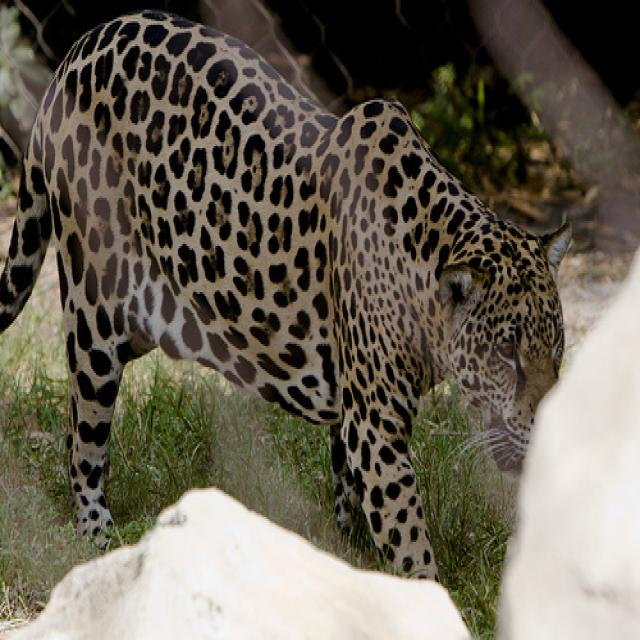Leopard: (1, 10, 576, 586)
